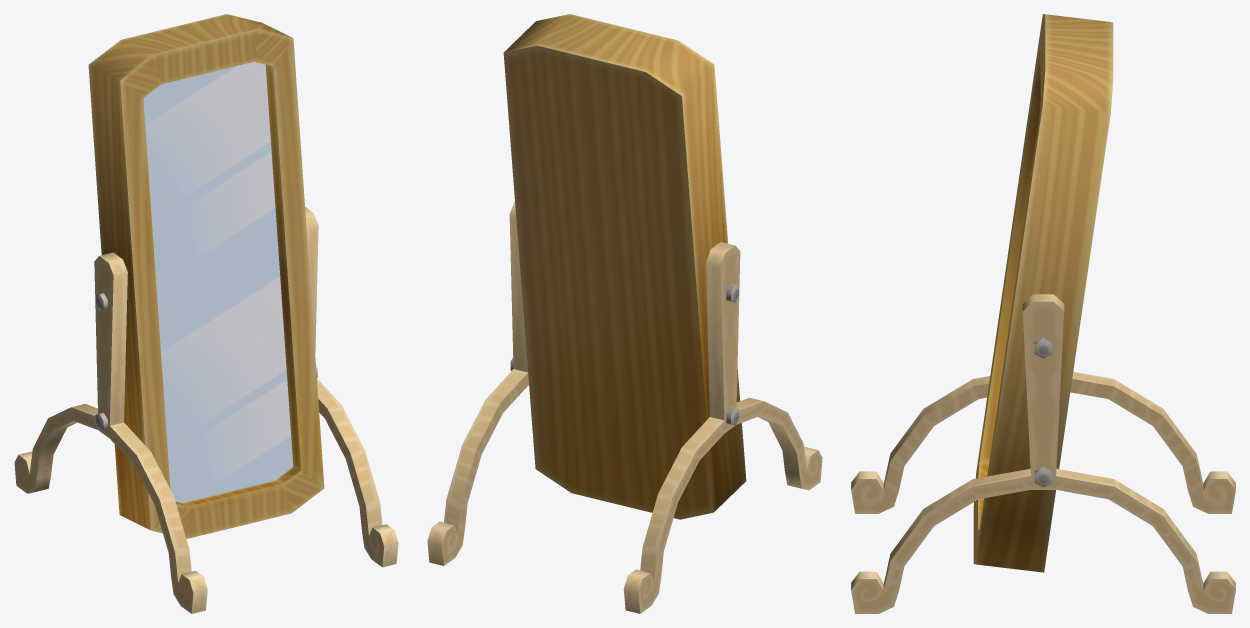
The model's file is obj_mirror_101efa.glb.
The picture shows the model from 3 angles, left to right: view 1: azimuth 30°, elevation 25°; view 2: azimuth 150°, elevation 25°; view 3: azimuth 270°, elevation 25°; orthographic projection. The views are drawn at different scales.
Visible parts, largest first — view 1: obj_mirror_101efa; view 2: obj_mirror_101efa; view 3: obj_mirror_101efa.
Boxes of the visible parts, x1=… form: obj_mirror_101efa: x1=14, y1=14, x2=398, y2=613; obj_mirror_101efa: x1=427, y1=14, x2=822, y2=613; obj_mirror_101efa: x1=851, y1=14, x2=1235, y2=613.
Size of the model in its own units: 0.4708 by 1 by 0.6735.
Materials: 1 (1 with a texture image).
